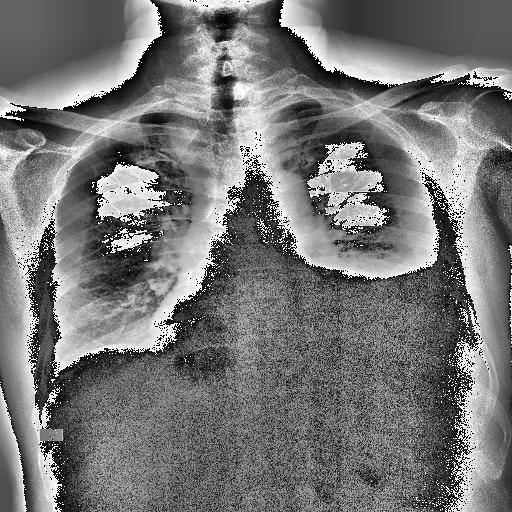10- Pleural effusion: (323, 242, 481, 370), (358, 232, 466, 374), (327, 241, 446, 362)
3- Cardiomegaly: (146, 300, 386, 360)
